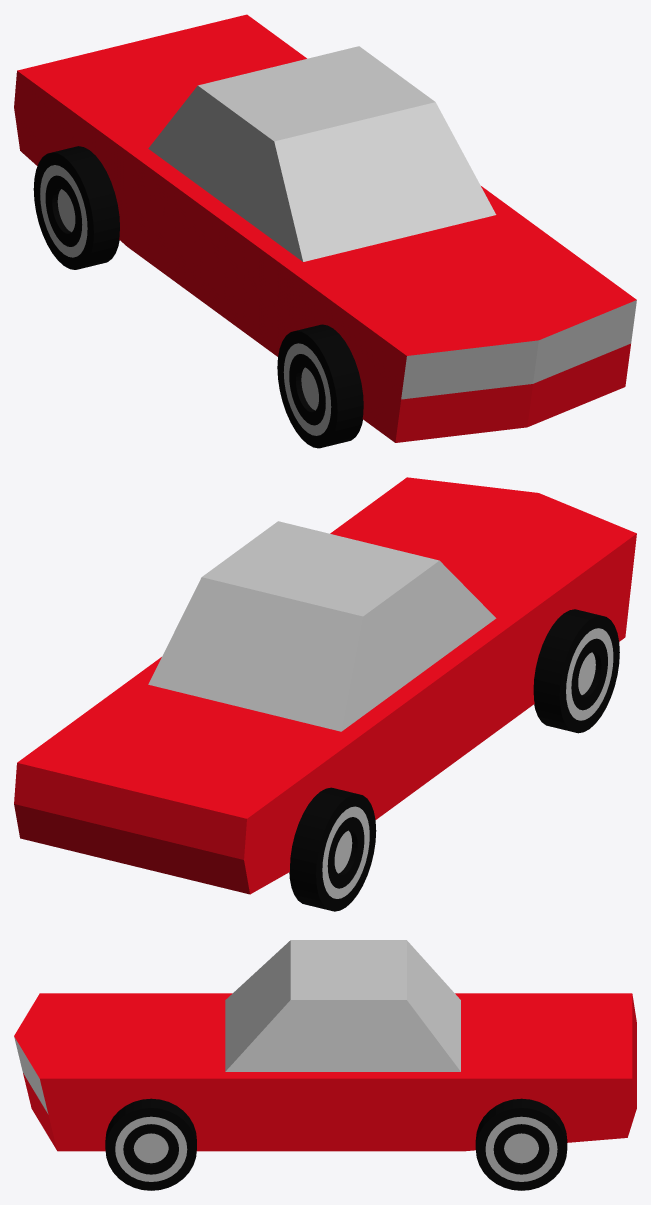
Rendered from car.glb.
3 views of the same model, one above another, from view 1: azimuth 30°, elevation 25°; view 2: azimuth 150°, elevation 25°; view 3: azimuth 270°, elevation 25° (orthographic). The views are drawn at different scales.
Parts seen in each view (by area): view 1: Cube.001, Cylinder.002, Cylinder.003; view 2: Cube.001, Cylinder.003, Cylinder.002; view 3: Cube.001, Cylinder, Cylinder.001.
Part boxes in pixels (bbox=[...]): Cube.001: bbox=[14, 14, 636, 442]; Cylinder.002: bbox=[277, 324, 363, 448]; Cylinder.003: bbox=[33, 146, 119, 269]; Cube.001: bbox=[14, 477, 636, 894]; Cylinder.003: bbox=[289, 787, 376, 911]; Cylinder.002: bbox=[533, 609, 619, 733]; Cube.001: bbox=[14, 940, 636, 1151]; Cylinder: bbox=[475, 1098, 567, 1190]; Cylinder.001: bbox=[105, 1098, 196, 1190].
Size of the model in its own units: 10.13 by 7.63 by 25.62.
11 materials, 10 textured.
